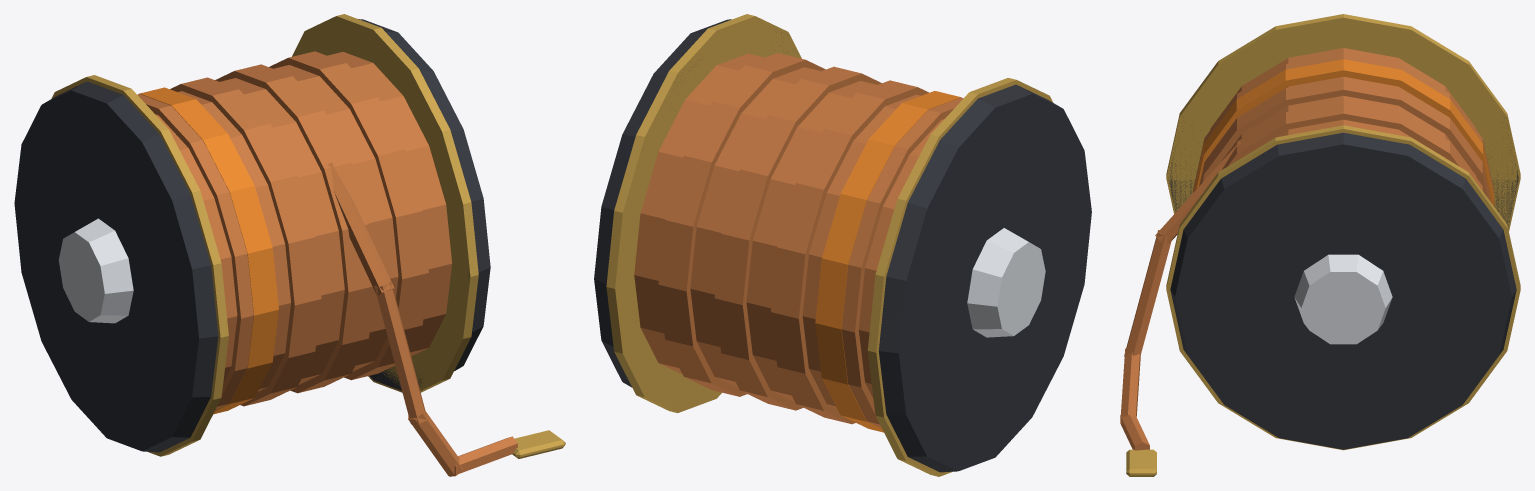
Rendered from coil_quality.glb.
The picture shows the model from 3 angles, left to right: view 1: azimuth 30°, elevation 25°; view 2: azimuth 150°, elevation 25°; view 3: azimuth 270°, elevation 25°; orthographic projection. The views are drawn at different scales.
Visible parts, largest first — view 1: coil_quality; view 2: coil_quality; view 3: coil_quality.
Part boxes in pixels (box(x1,y1,x2,y2)): coil_quality: box(14, 14, 565, 476); coil_quality: box(594, 14, 1091, 476); coil_quality: box(1120, 14, 1520, 476).
Bounding box in the file's own units: 0.176 × 0.1616 × 0.1826.
